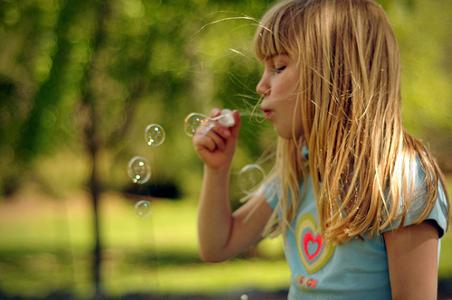person: (191, 2, 448, 299)
